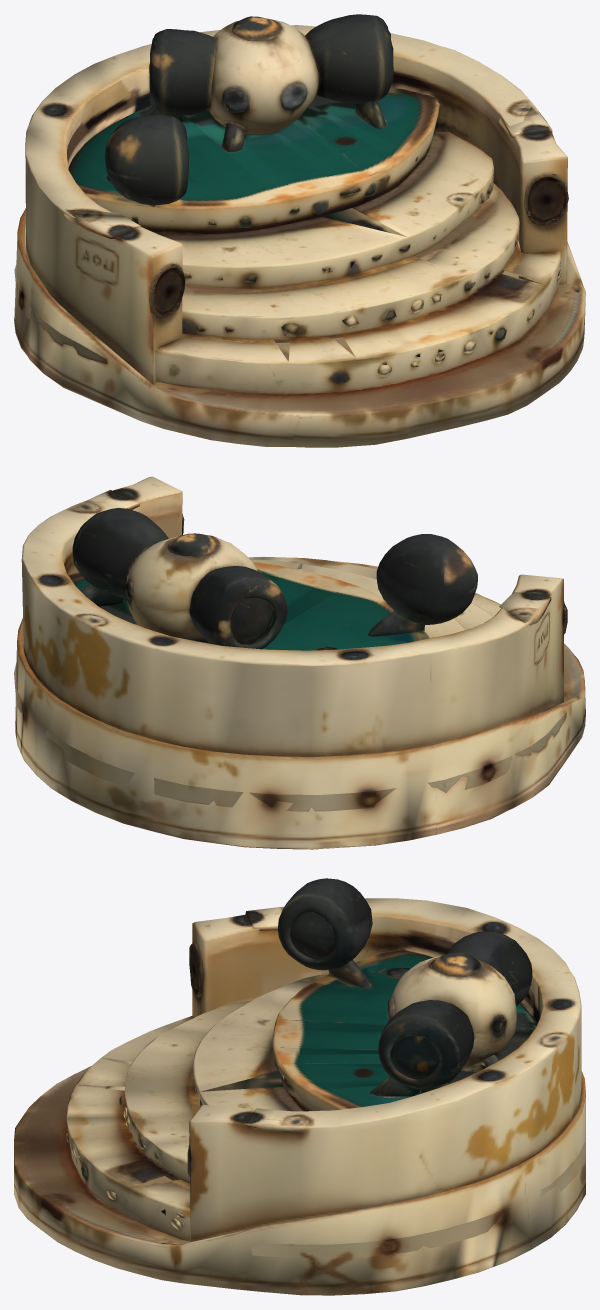
File: arch-stairs.glb
The picture shows the model from 3 angles, top to bottom: view 1: azimuth 30°, elevation 25°; view 2: azimuth 150°, elevation 25°; view 3: azimuth 270°, elevation 25°; orthographic projection.
Visible parts, largest first — view 1: Mesh_0; view 2: Mesh_0; view 3: Mesh_0.
Part boxes in pixels (x1,y1,x2,y2): Mesh_0: [14, 14, 585, 447]; Mesh_0: [14, 476, 585, 849]; Mesh_0: [14, 878, 585, 1295].
Size of the model in its own units: 0.9746 by 0.458 by 1.
Materials: 1 (1 with a texture image).
